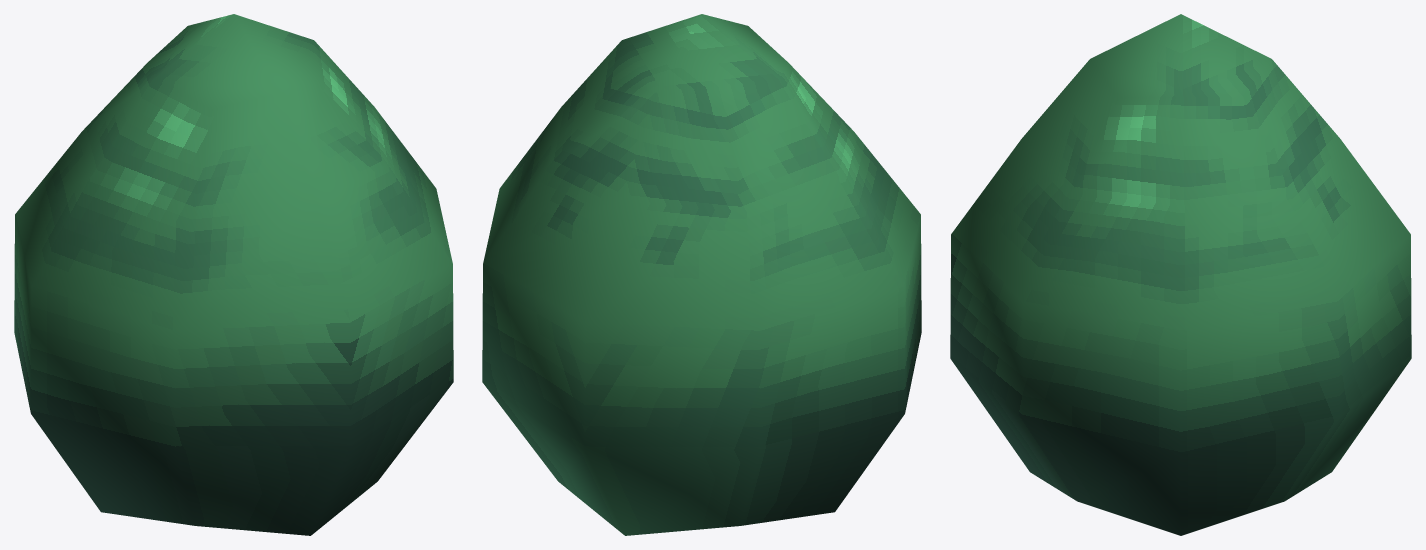
File: bush2.fbx
3 views of the same model, side by side, from view 1: azimuth 30°, elevation 25°; view 2: azimuth 150°, elevation 25°; view 3: azimuth 270°, elevation 25° (orthographic).
Parts seen in each view (by area): view 1: Bush2; view 2: Bush2; view 3: Bush2.
Part boxes in pixels (left/top/right/bottom): Bush2: left=14, top=14, right=453, bottom=535; Bush2: left=482, top=14, right=921, bottom=535; Bush2: left=950, top=14, right=1411, bottom=535.
Bounding box in the file's own units: 371 × 406 × 371.
1 material, 1 textured.
